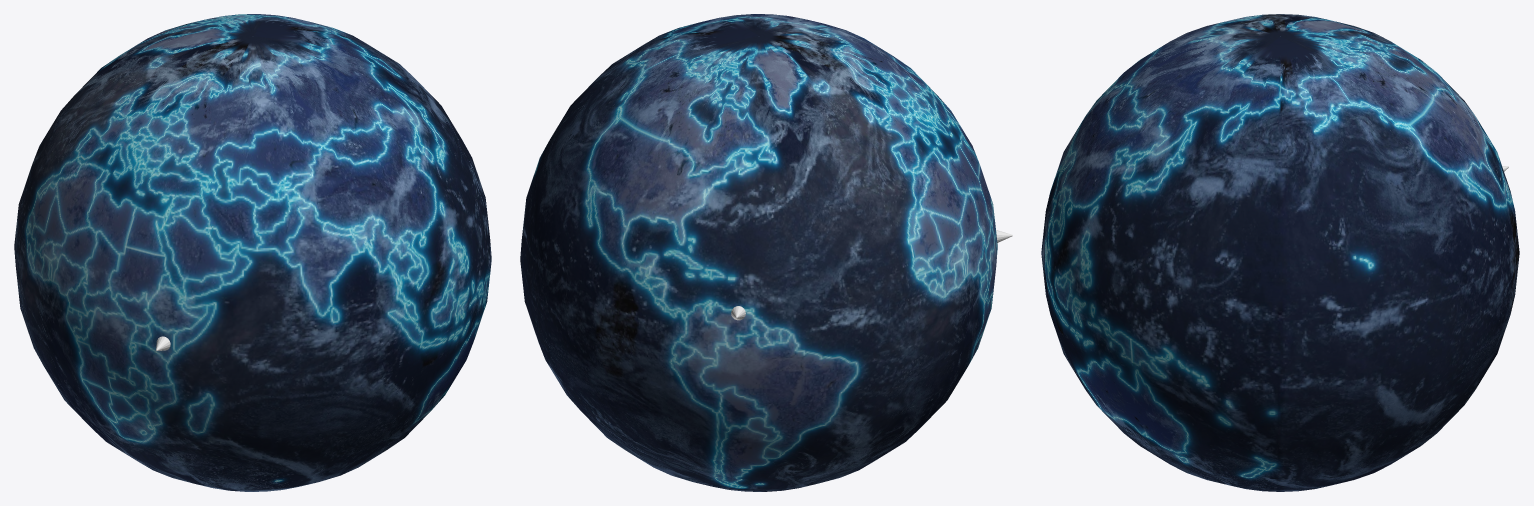
Rendered from 0715_Earth.glb.
3 views of the same model, side by side, from view 1: azimuth 30°, elevation 25°; view 2: azimuth 150°, elevation 25°; view 3: azimuth 270°, elevation 25° (orthographic).
Visible parts, largest first — view 1: Globe; view 2: Globe; view 3: Globe.
Boxes of the visible parts, x1,y1,x2,y2 form: Globe: (14,14,491,491); Globe: (520,14,997,491); Globe: (1041,14,1519,491).
Bounding box in the file's own units: 2 × 2 × 2.
Materials: 1 (1 with a texture image).
